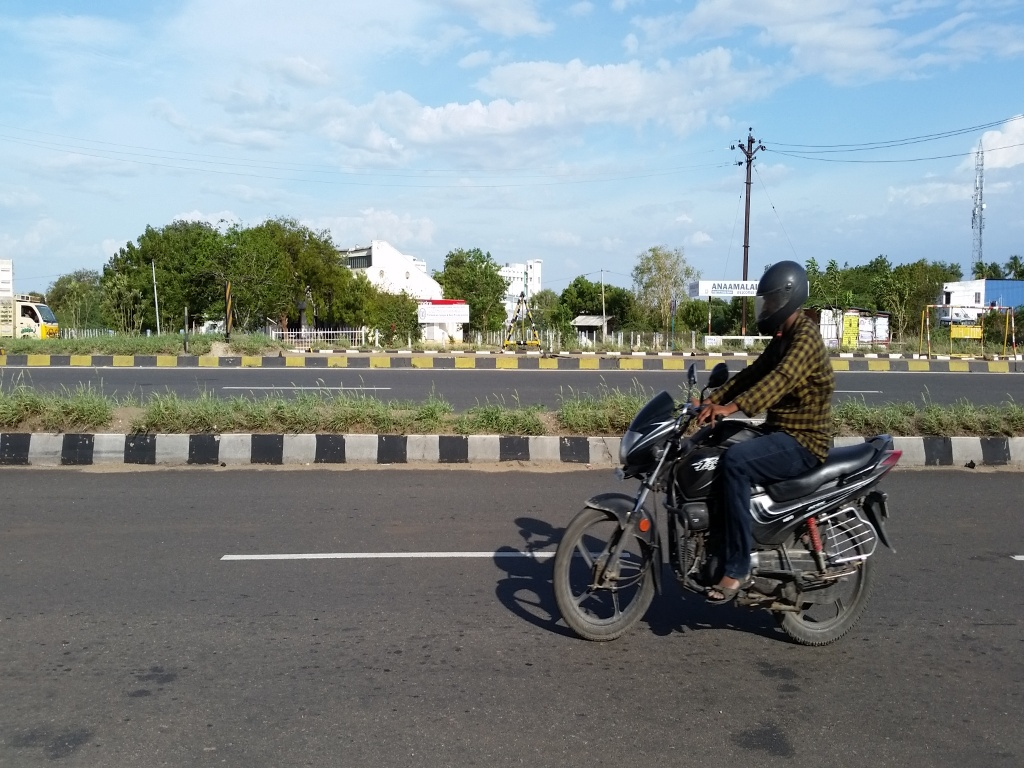biker: (520, 206, 926, 661)
helmet: (747, 240, 825, 345)
